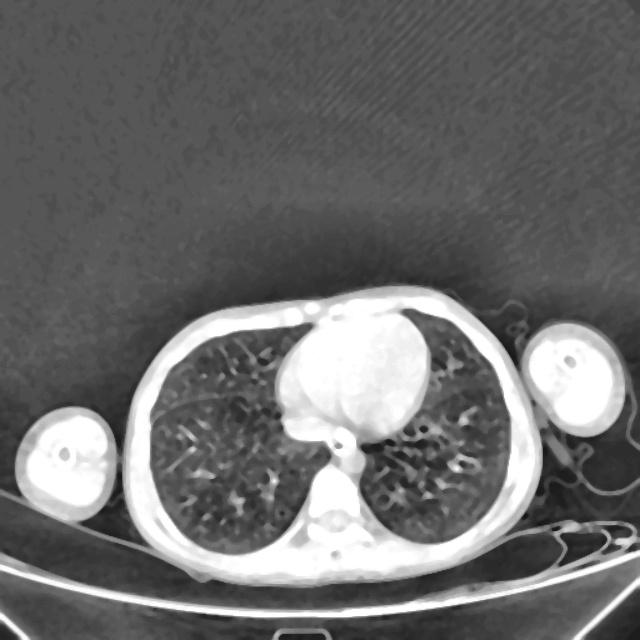covid: (120, 283, 544, 587)
